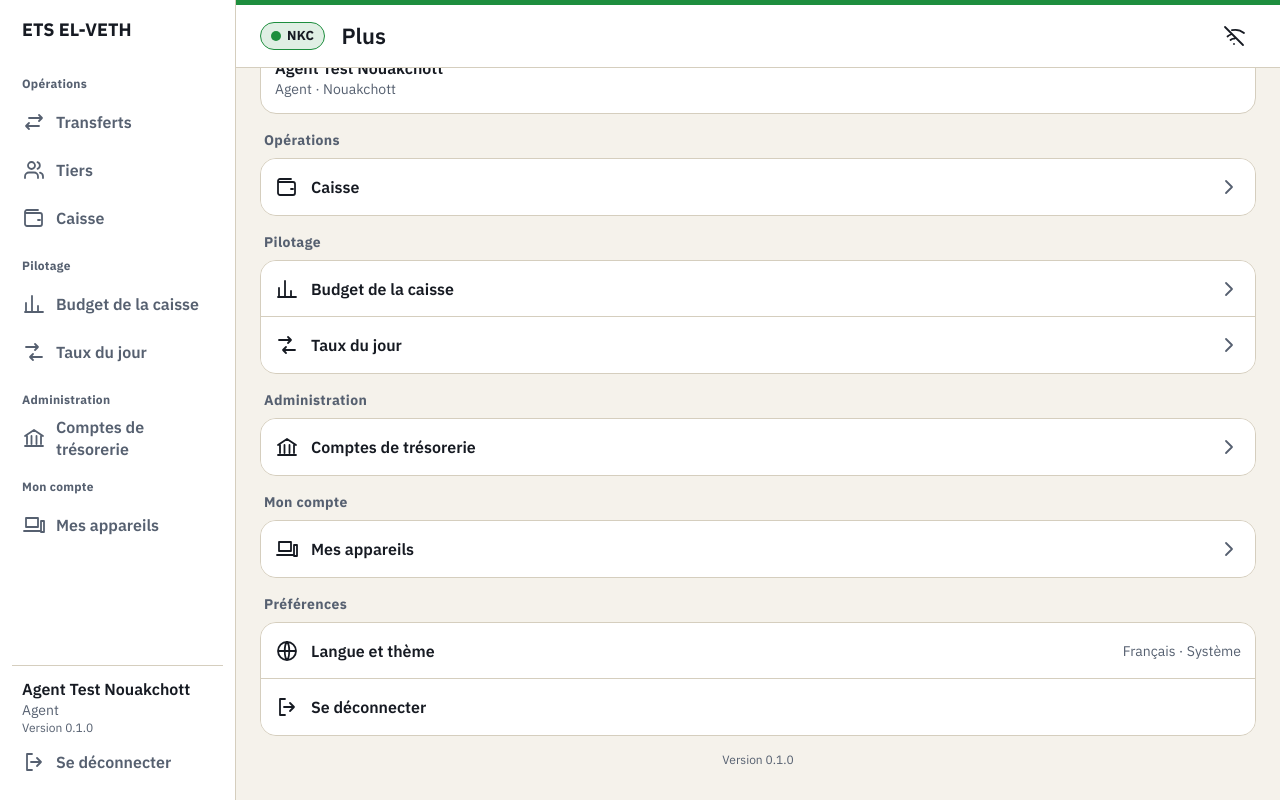
it: File des créations hors ligne › se déconnecter avec des opérations en attente prévient d’abord ; elles restent sur le téléphone
(page scrolled)
Click the button "Se déconnecter" below "Préférences".
click(369, 707)  # box [261,679,1255,735]
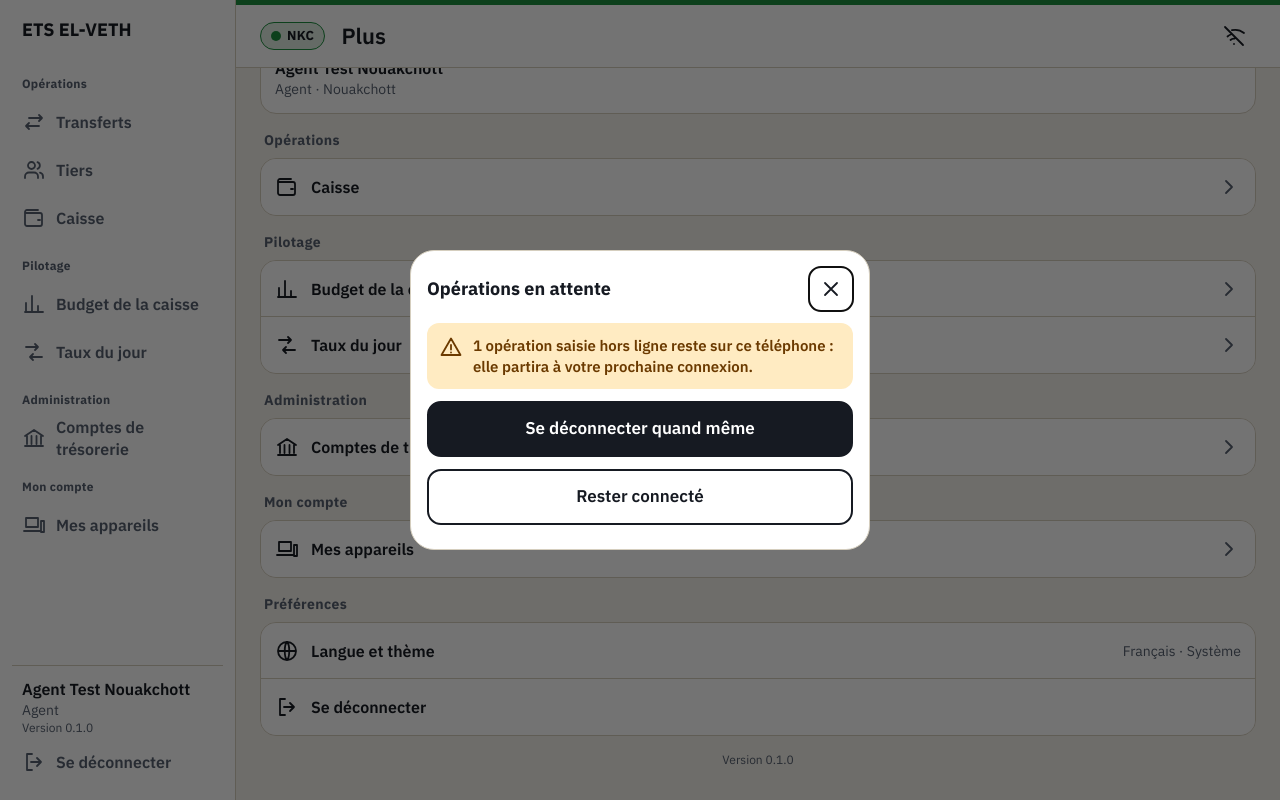
Result: the text "1 opération saisie hors ligne reste sur ce téléphone" is shown at [473,336,834,376]
Click the button "Rester connecté".
click(640, 497)  # box [427,469,853,525]
(page scrolled)
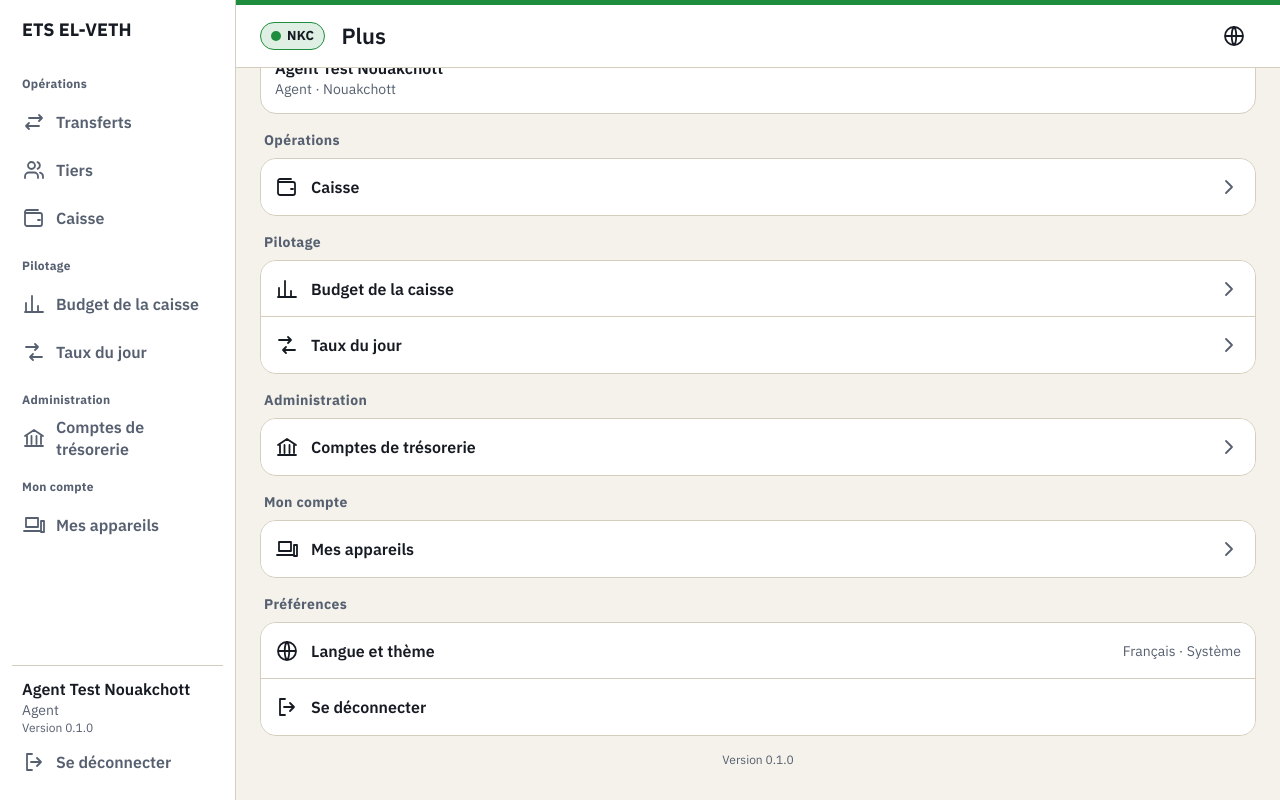
Result: the dialog is gone
